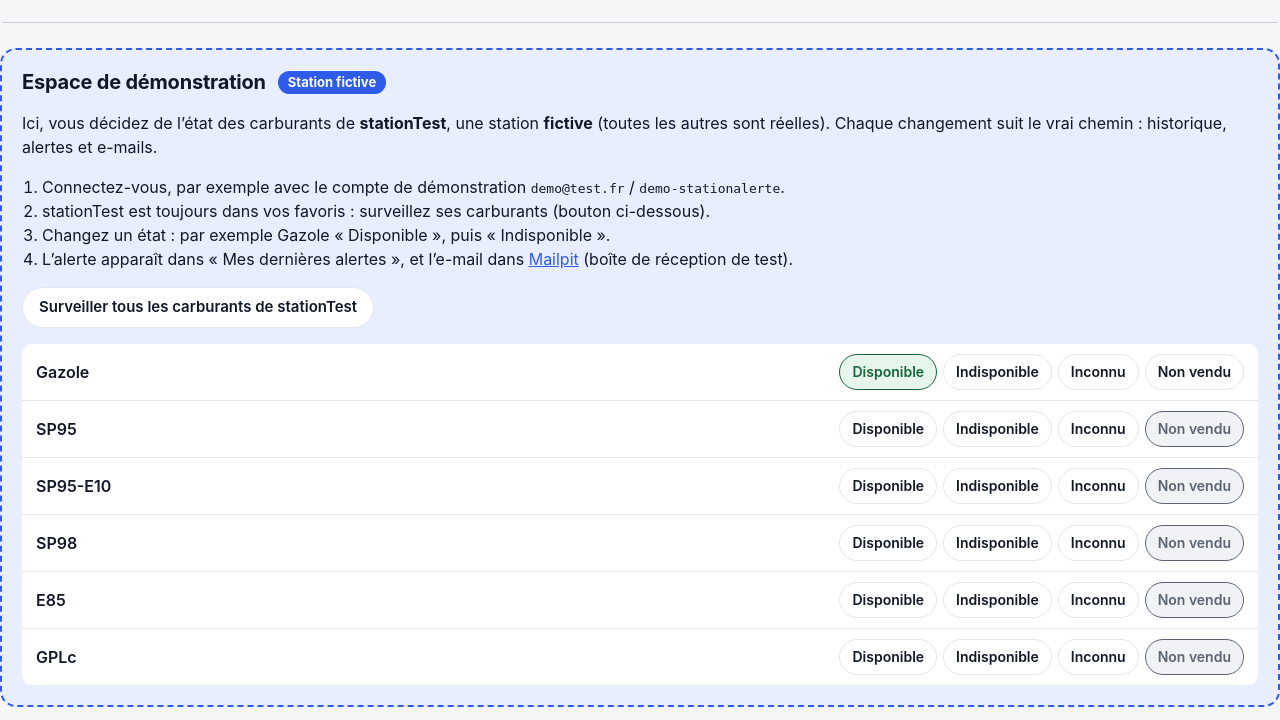
it: DemoPanel › serveur injoignable : message d’erreur
The width and height of the screenshot is (1280, 720).
Expected: the heading "Espace de démonstration" is shown, [22, 70, 266, 95]
Click the 1st button "Indisponible" at (997, 372), box [943, 354, 1052, 390]
(page scrolled)
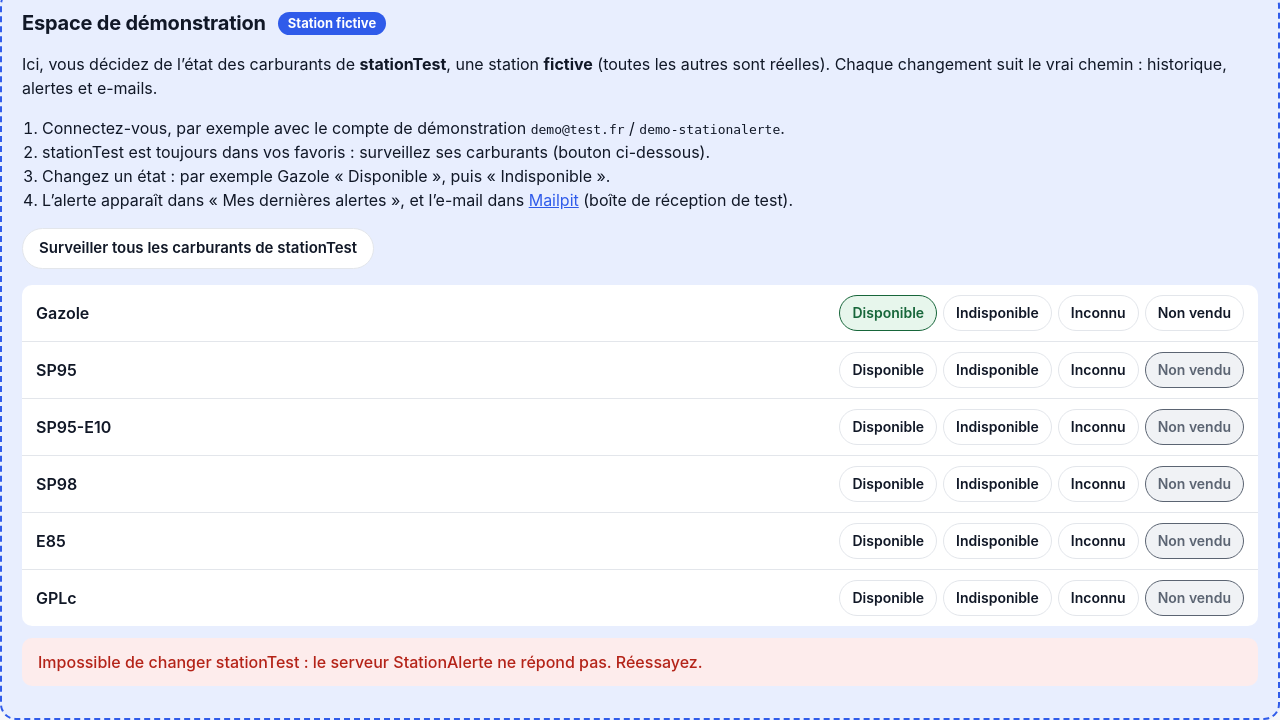
Expected: the message shows "ne répond pas", [38, 652, 703, 672]
